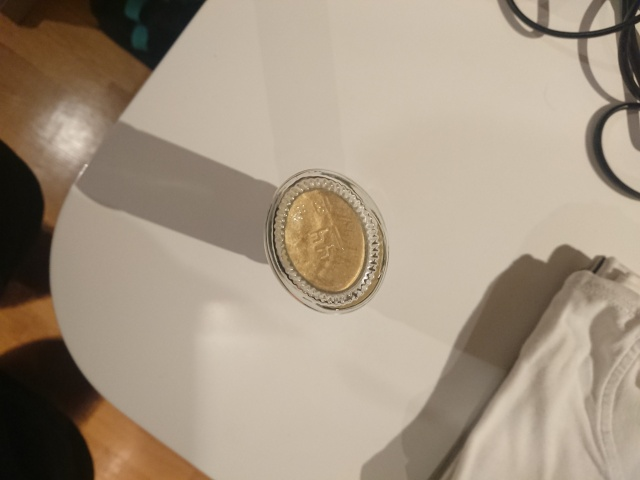Kotanyi Garlic Granules 70g: (262, 165, 392, 318)
